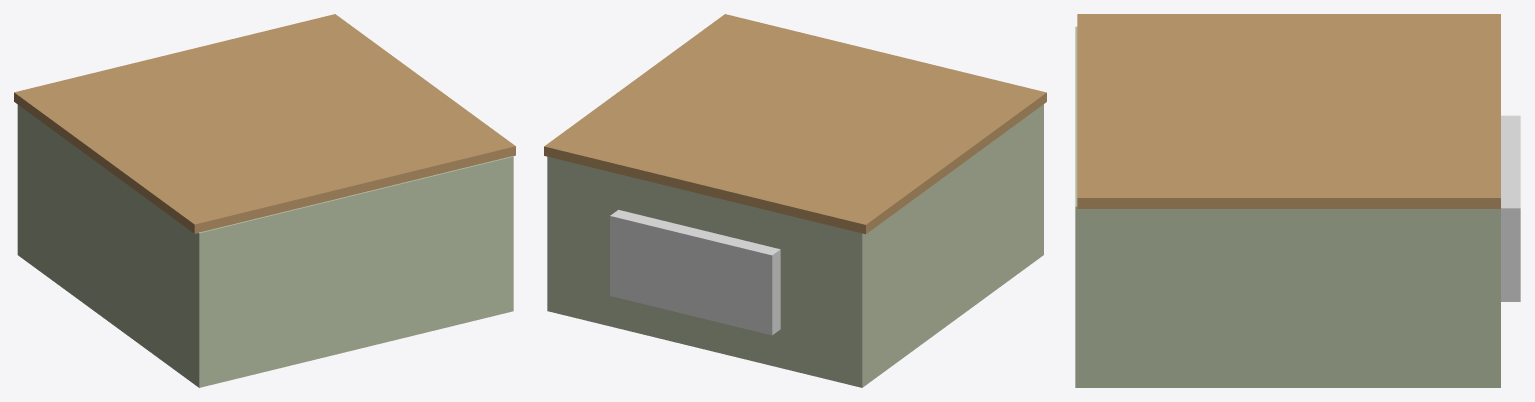
File: House_ver1.fbx
The picture shows the model from 3 angles, left to right: view 1: azimuth 30°, elevation 25°; view 2: azimuth 150°, elevation 25°; view 3: azimuth 270°, elevation 25°; orthographic projection. The views are drawn at different scales.
Parts seen in each view (by area): view 1: Room, tenjyo; view 2: tenjyo, Room, CTRL_Hole; view 3: tenjyo, Room, CTRL_Hole.
Part boxes in pixels (<box>): Room: <box>17,105,513,387</box>; tenjyo: <box>14,14,515,233</box>; tenjyo: <box>544,14,1046,234</box>; Room: <box>547,104,1043,387</box>; CTRL_Hole: <box>610,210,780,335</box>; tenjyo: <box>1077,14,1500,208</box>; Room: <box>1075,26,1500,387</box>; CTRL_Hole: <box>1501,115,1520,301</box>.
Size of the model in its own units: 920 by 452 by 942.
